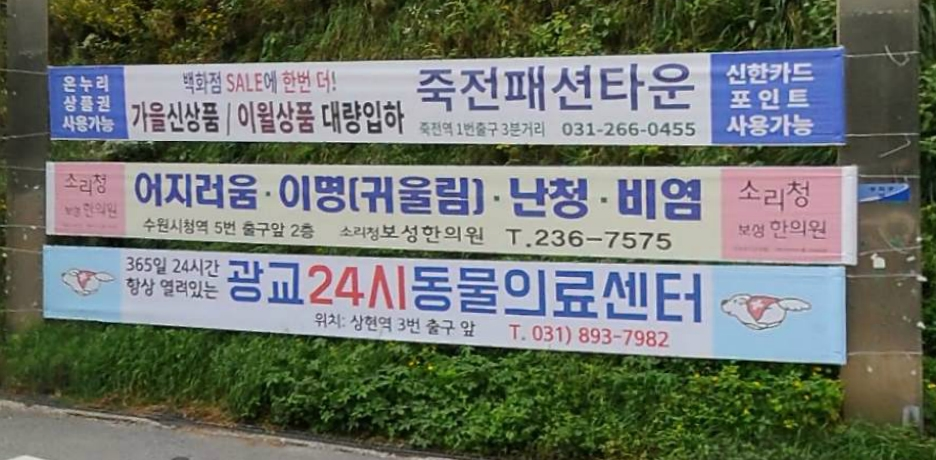banner: (35, 242, 851, 370), (41, 38, 856, 151), (37, 159, 866, 243)
